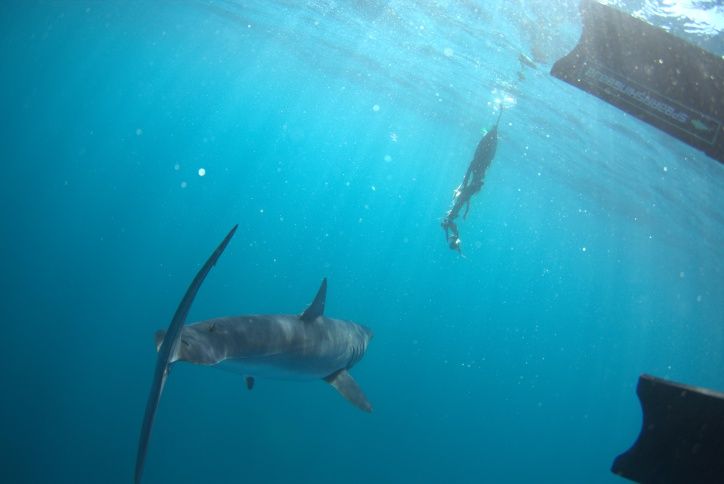Mako: (102, 209, 403, 484)
